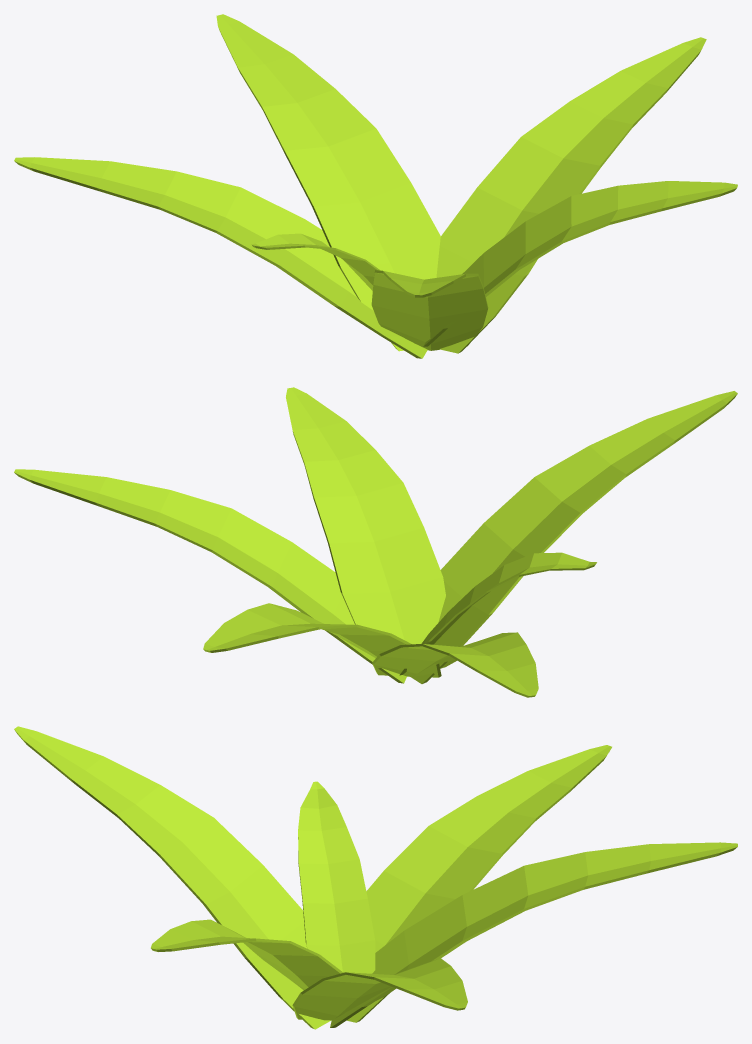
File: grasstest3.fbx
3 renders of one model, top to bottom at view 1: azimuth 30°, elevation 25°; view 2: azimuth 150°, elevation 25°; view 3: azimuth 270°, elevation 25°, orthographic. The views are drawn at different scales.
Parts seen in each view (by area): view 1: Plane.004; view 2: Plane.004; view 3: Plane.004.
Boxes of the visible parts, x1,y1,x2,y2 form: Plane.004: [14, 14, 737, 358]; Plane.004: [14, 387, 737, 697]; Plane.004: [14, 726, 737, 1029].
Size of the model in its own units: 836 by 282 by 881.
